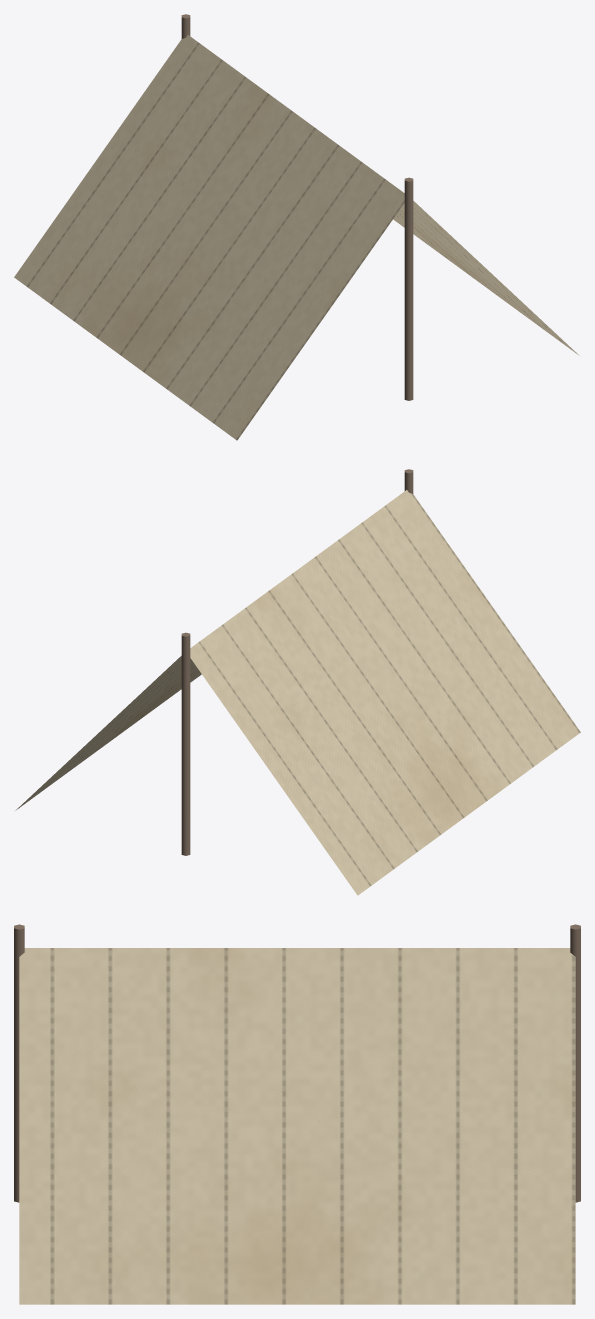
File: SM_Art_Settlement_Camp_5.gltf
3 renders of one model, top to bottom at view 1: azimuth 30°, elevation 25°; view 2: azimuth 150°, elevation 25°; view 3: azimuth 270°, elevation 25°, orthographic. The views are drawn at different scales.
Visible parts, largest first — view 1: SM_Art_Settlement_Camp_5; view 2: SM_Art_Settlement_Camp_5; view 3: SM_Art_Settlement_Camp_5.
Part boxes in pixels (left/top/right/bottom): SM_Art_Settlement_Camp_5: left=14, top=14, right=579, bottom=440; SM_Art_Settlement_Camp_5: left=15, top=469, right=580, bottom=895; SM_Art_Settlement_Camp_5: left=14, top=924, right=580, bottom=1304.
Size of the model in its own units: 3.2 by 1.95 by 3.67.
